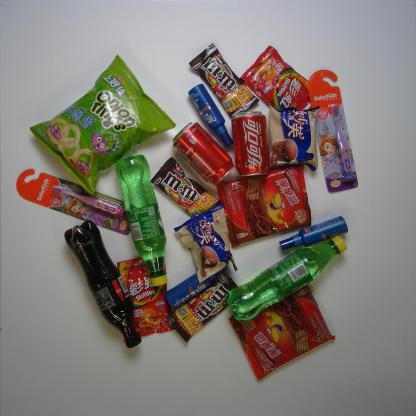Candy: (238, 42, 323, 125), (110, 251, 177, 339)
Chocolate: (187, 43, 263, 122), (163, 270, 245, 343), (149, 156, 227, 226)
Dessert: (226, 282, 338, 385), (216, 162, 314, 252), (173, 202, 239, 286), (258, 99, 322, 174)
Drink: (222, 233, 350, 324), (61, 218, 145, 350), (113, 152, 172, 288), (171, 121, 234, 188), (227, 106, 274, 181)
Personal Hygiene: (12, 165, 139, 238), (306, 67, 360, 196), (164, 254, 233, 312), (185, 80, 235, 153), (277, 214, 350, 254)
Puffed Food: (24, 52, 179, 196)
